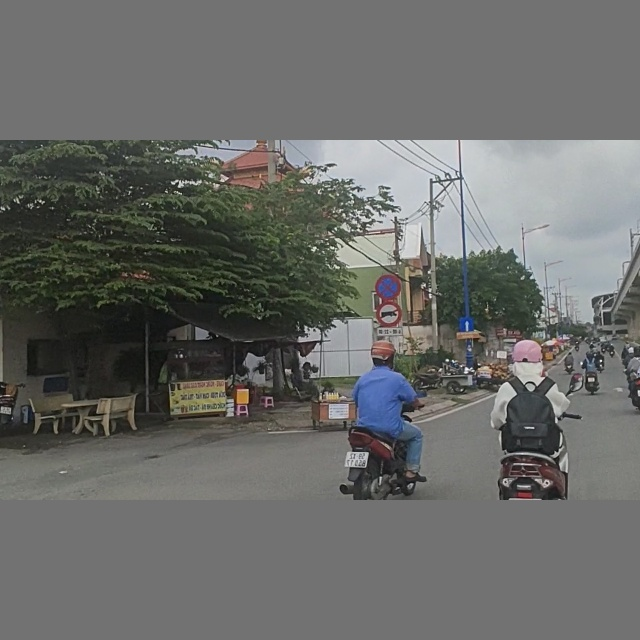B.8a: (376, 302, 401, 327)
I.407a: (457, 316, 474, 333)
P.130: (375, 273, 401, 300)
